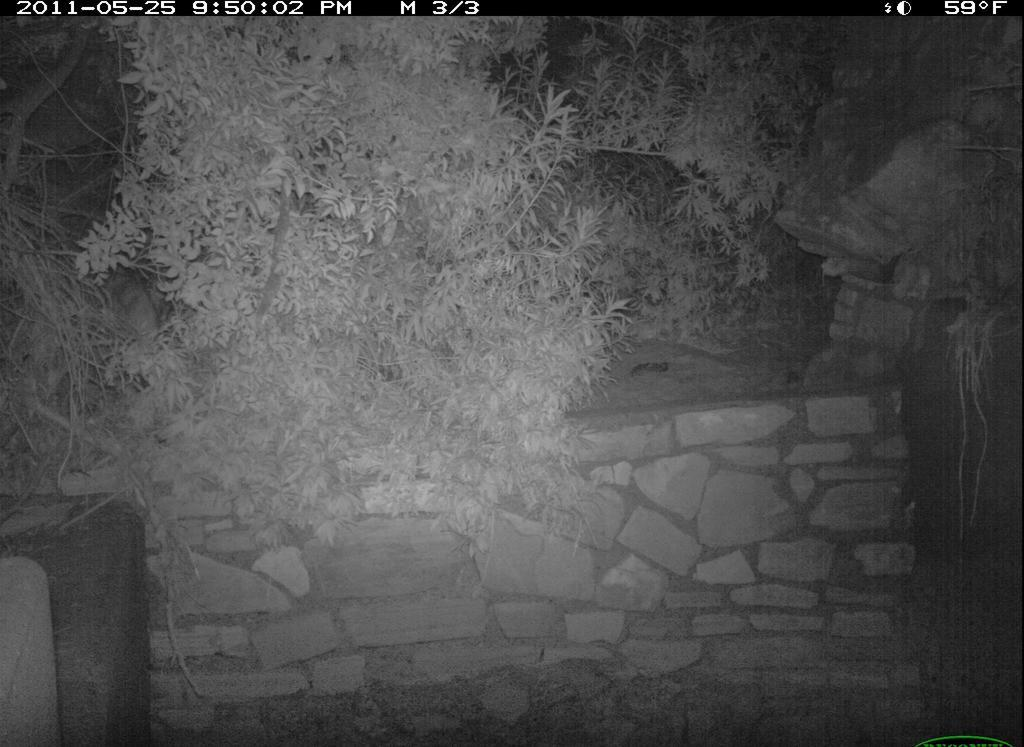opossum: (98, 258, 180, 363)
